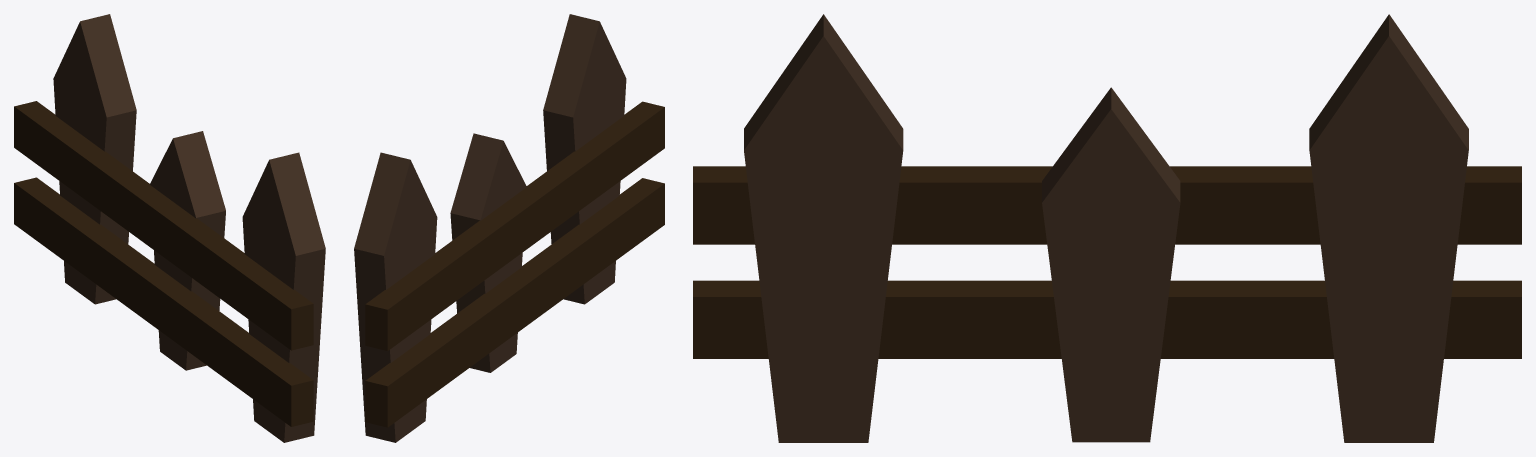
Rendered from fence.fbx.
The picture shows the model from 3 angles, left to right: view 1: azimuth 30°, elevation 25°; view 2: azimuth 150°, elevation 25°; view 3: azimuth 270°, elevation 25°; orthographic projection. The views are drawn at different scales.
Parts seen in each view (by area): view 1: Fence; view 2: Fence; view 3: Fence.
Boxes of the visible parts, left/top/right/bottom form: Fence: left=14, top=14, right=325, bottom=442; Fence: left=354, top=14, right=664, bottom=442; Fence: left=693, top=14, right=1521, bottom=442.
Bounding box in the file's own units: 66.66 × 336 × 621.
